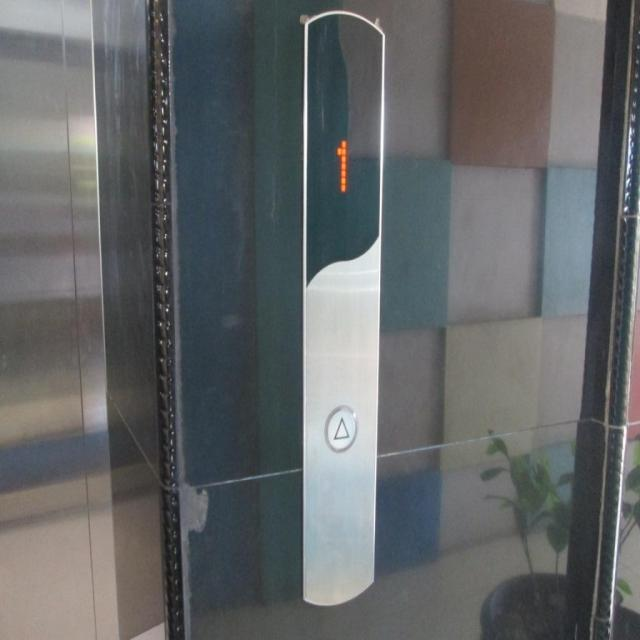led: (302, 12, 383, 285)
up: (320, 399, 358, 456)
